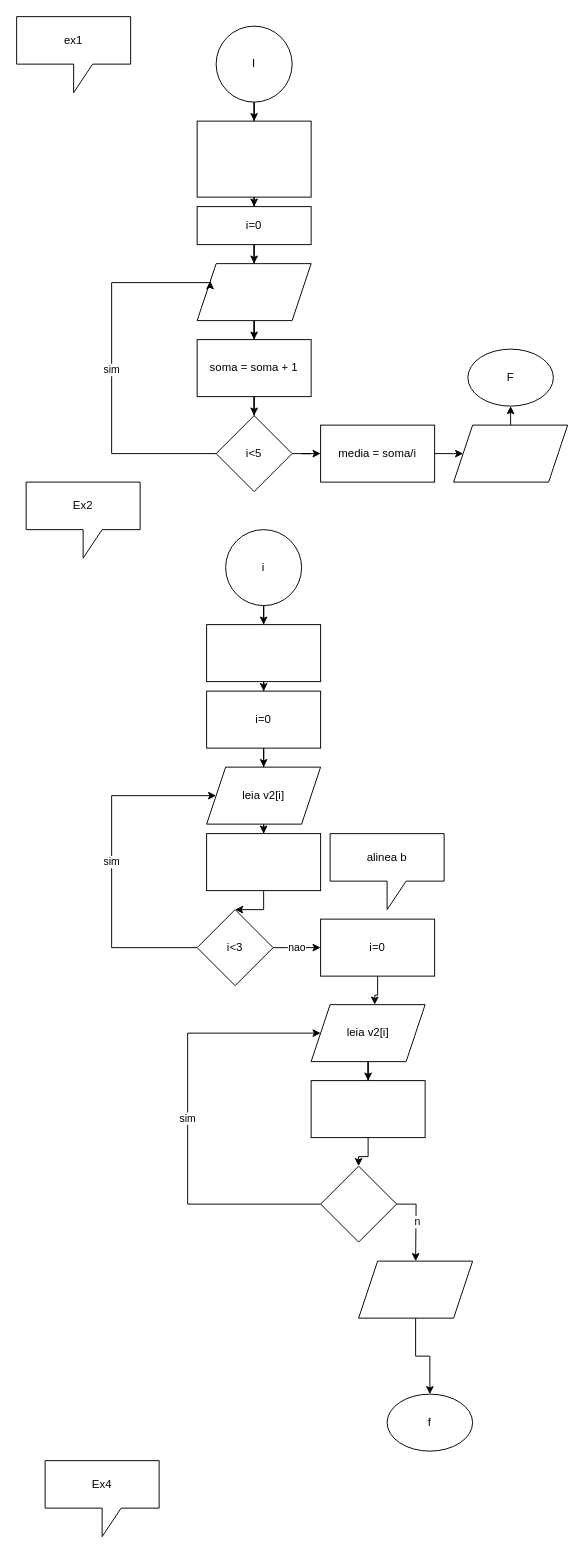
This 584x1553 diagram has some shape labels left out. Here are the shapes that lost their labels. From the top down, the centre of each, then its label:
the point at 253,158: array numeros[5] : decimal i: int media: decimal soma: decimal
the point at 253,292: leia n[i]
the point at 510,453: Escreva media
the point at 263,653: array v1[3]: decimal array v2[4]: decimal array res[7]: decimal i: int
the point at 263,862: res[i] = v[i]
the point at 367,1109: res[i+3] = v2[i]
the point at 358,1203: i<4
the point at 415,1289: escreva (res)
